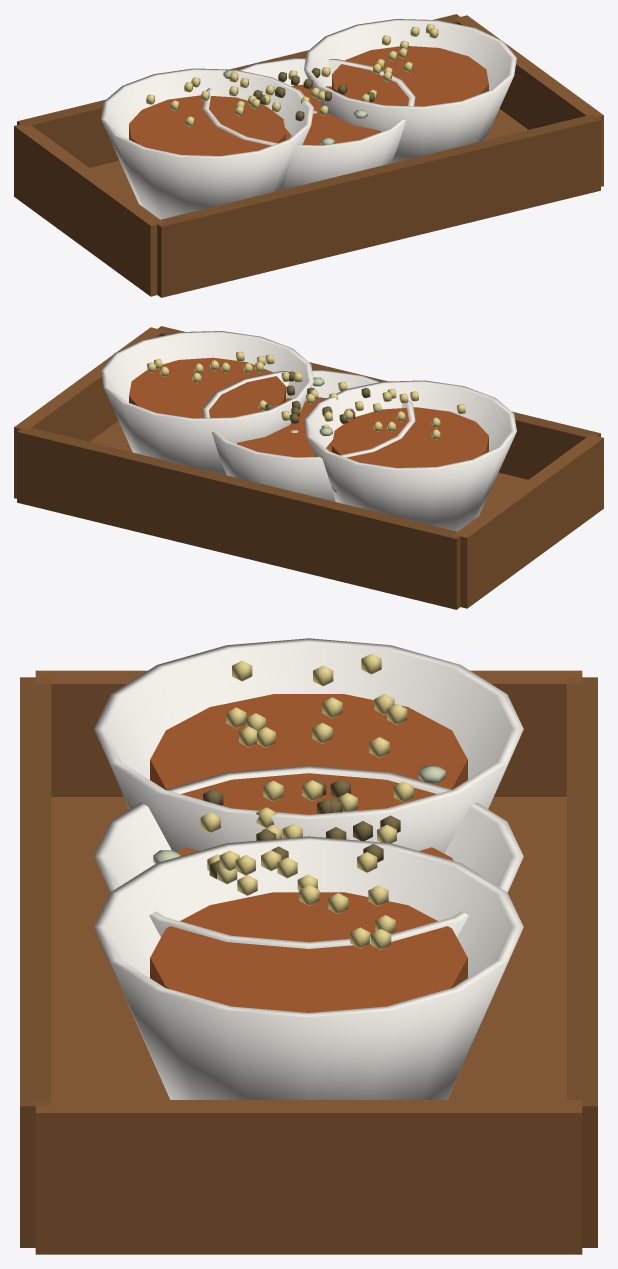
Rendered from Stew_Bean.fbx.
3 views of the same model, one above another, from view 1: azimuth 30°, elevation 25°; view 2: azimuth 150°, elevation 25°; view 3: azimuth 270°, elevation 25° (orthographic). The views are drawn at different scales.
Parts seen in each view (by area): view 1: Stew_Bean__Stack, Stew_Bean, Stew_Bean__Rotten; view 2: Stew_Bean__Stack, Stew_Bean, Stew_Bean__Rotten; view 3: Stew_Bean__Stack, Stew_Bean, Stew_Bean__Rotten.
Boxes of the visible parts, <box> form: Stew_Bean__Stack: <box>14,14,603,297</box>; Stew_Bean: <box>202,58,415,189</box>; Stew_Bean__Rotten: <box>223,68,374,145</box>; Stew_Bean__Stack: <box>14,326,603,609</box>; Stew_Bean: <box>202,370,415,501</box>; Stew_Bean__Rotten: <box>265,371,370,492</box>; Stew_Bean__Stack: <box>20,638,597,1254</box>; Stew_Bean: <box>94,765,523,948</box>; Stew_Bean__Rotten: <box>153,766,445,878</box>.
Size of the model in its own units: 0.268 by 0.068 by 0.148.
